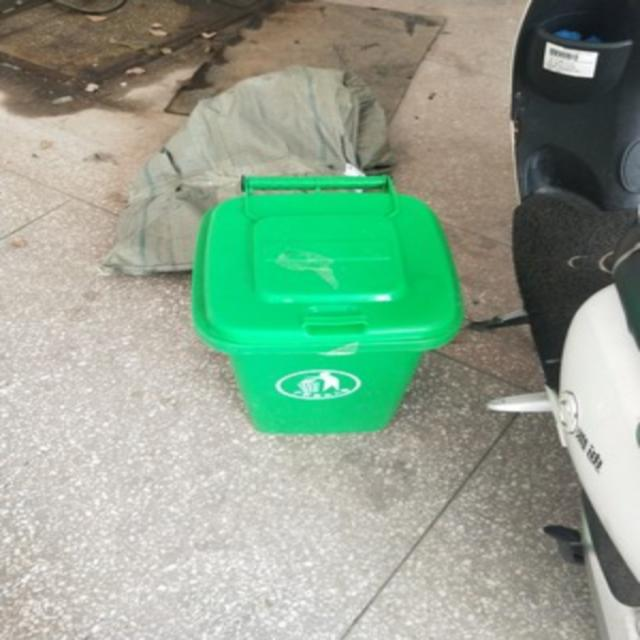ash bin: (188, 171, 467, 432)
motorbike: (473, 0, 638, 629)
